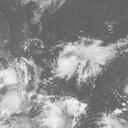cyclone: (1, 70, 45, 126), (54, 42, 102, 85)
